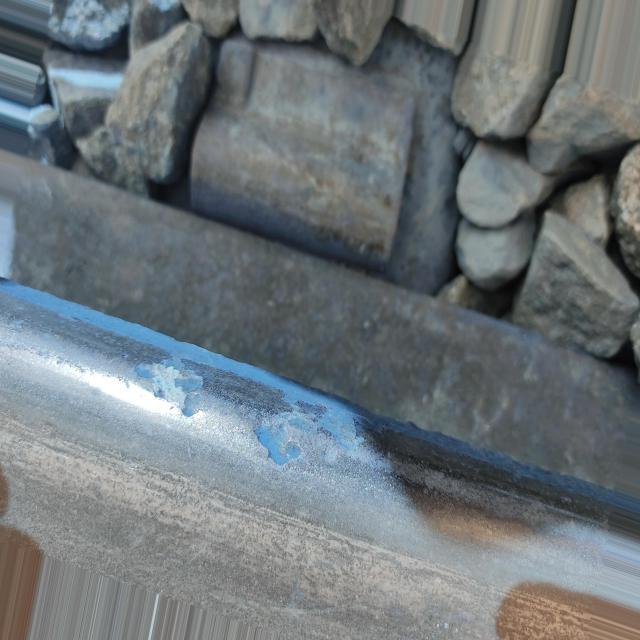squats_high: (133, 352, 205, 423), (251, 413, 303, 469), (314, 409, 357, 453)
